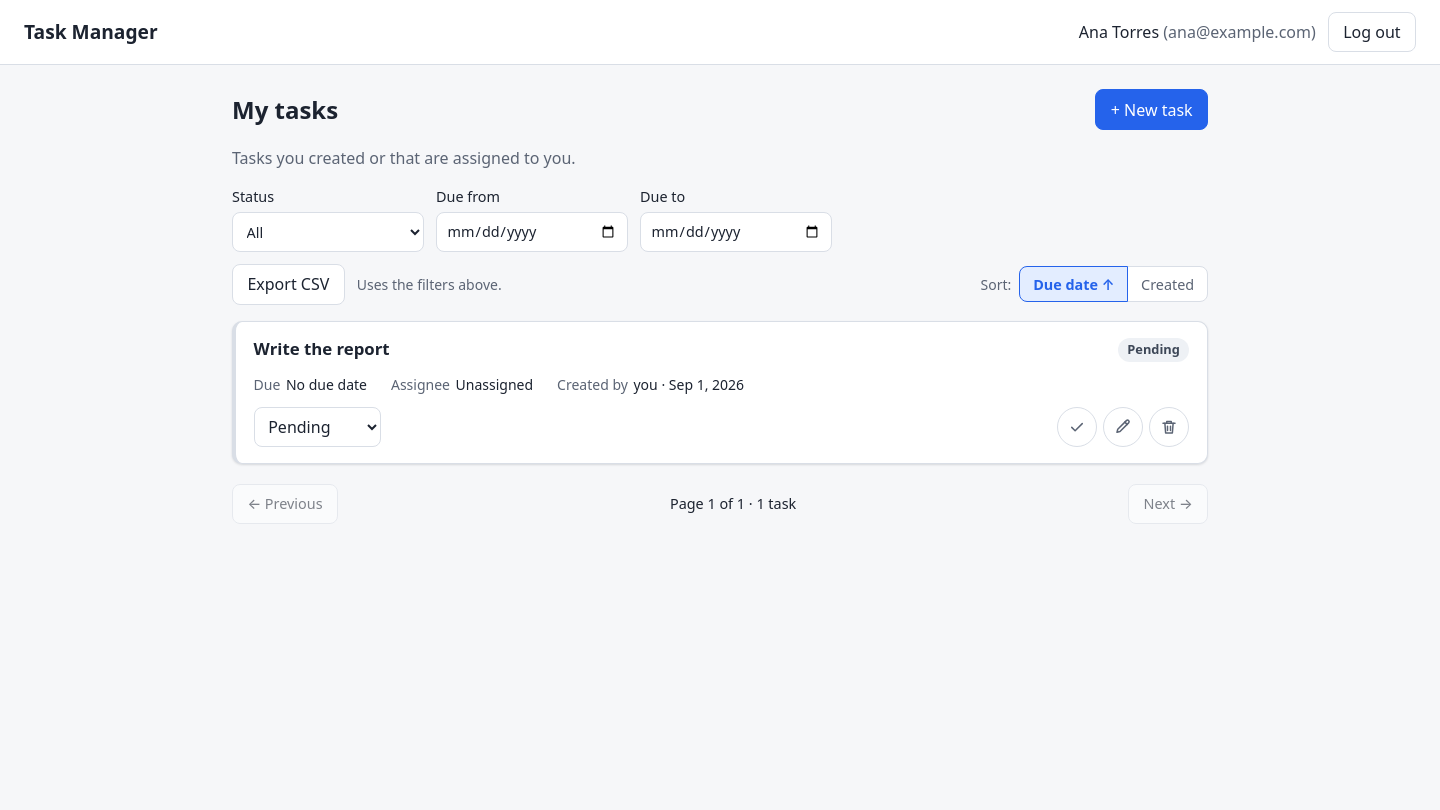
Scenario: tasks › asks for confirmation before deleting
This screenshot has width=1440, height=810.
Step 1. Click the button named "Delete" → {"x": 1169, "y": 427}, box [1149, 407, 1189, 447]
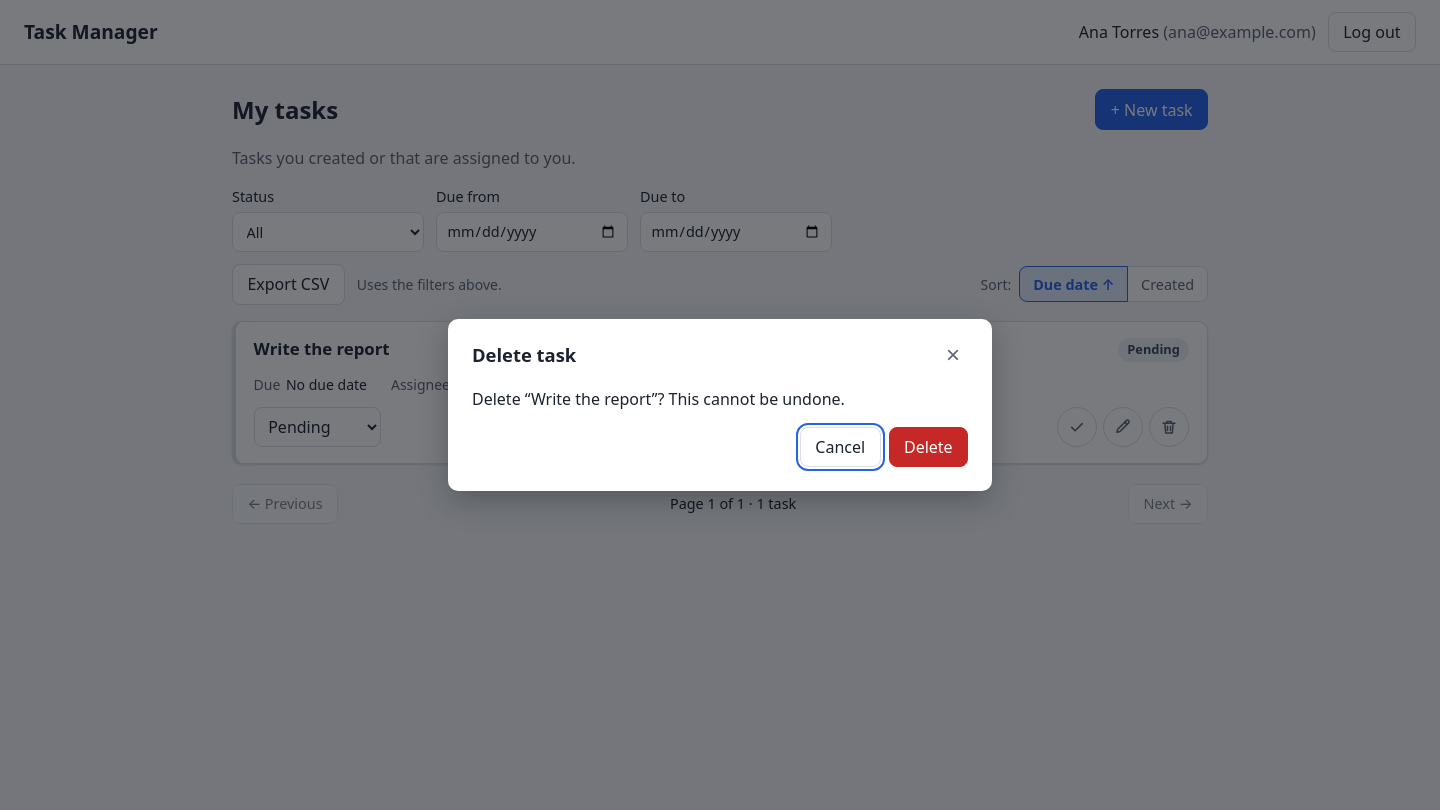
Step 2. Click the button "Cancel" → {"x": 840, "y": 447}, box [800, 427, 881, 467]
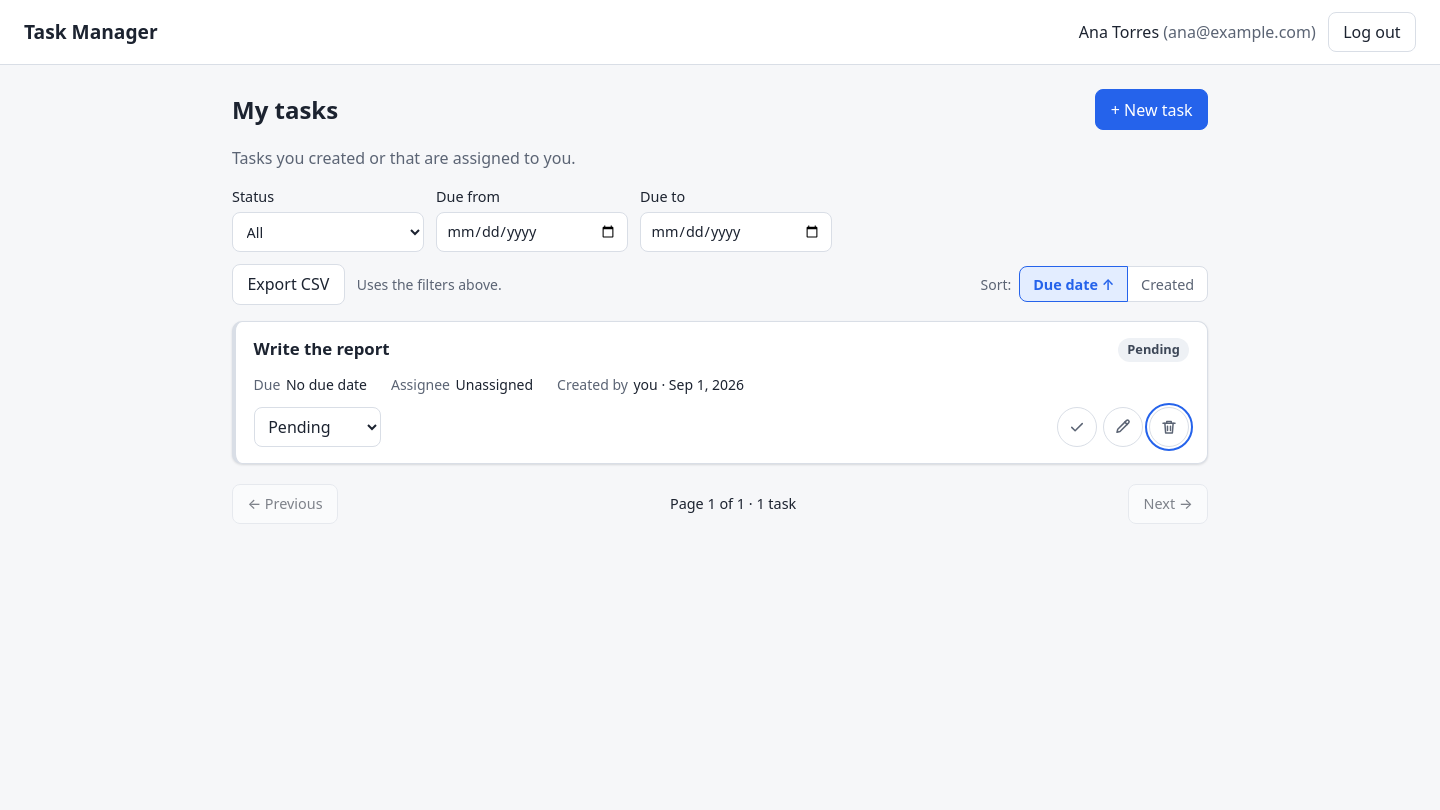
Step 3. Click the button named "Delete" → {"x": 1169, "y": 427}, box [1149, 407, 1189, 447]
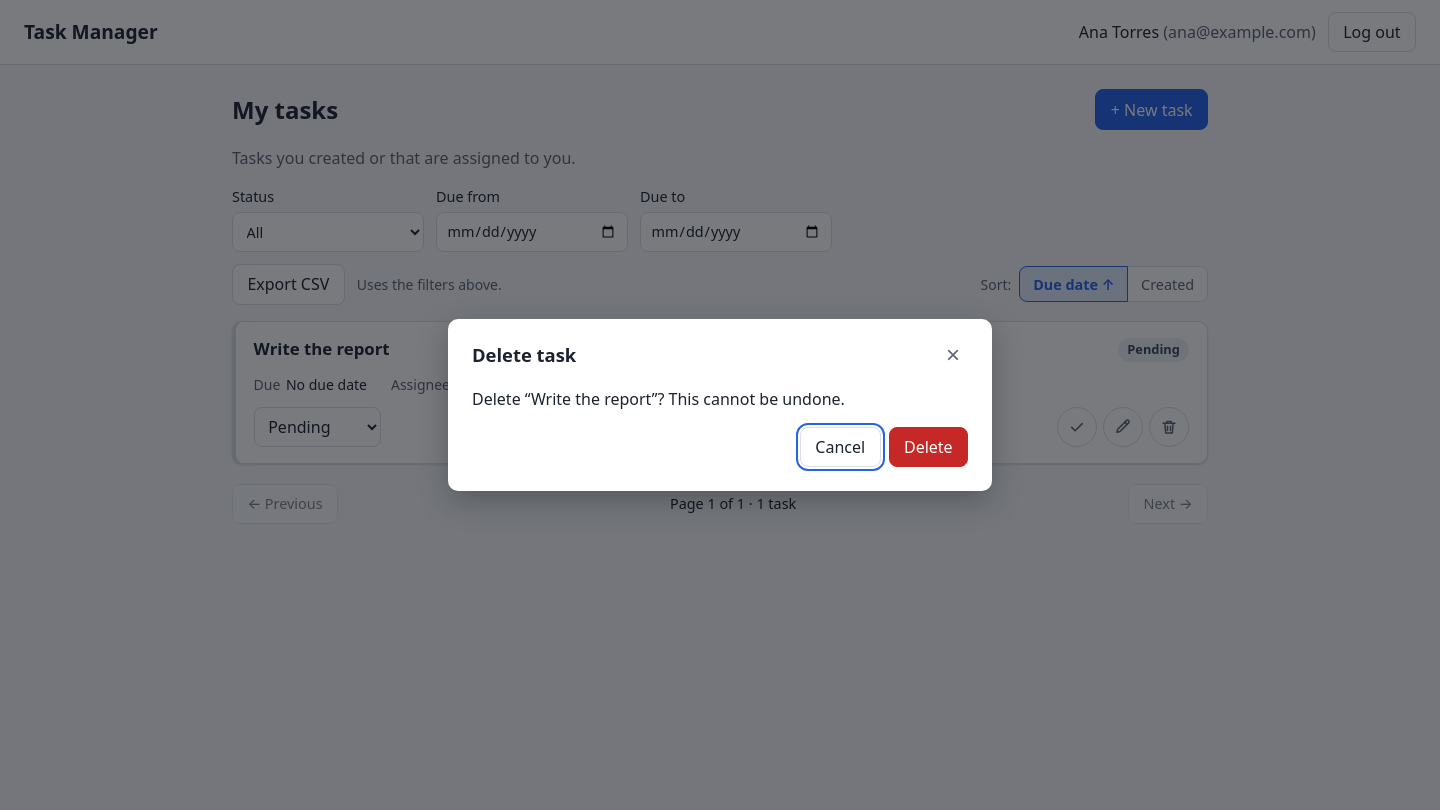
Step 4. Click the button "Delete" → {"x": 928, "y": 447}, box [889, 427, 968, 467]
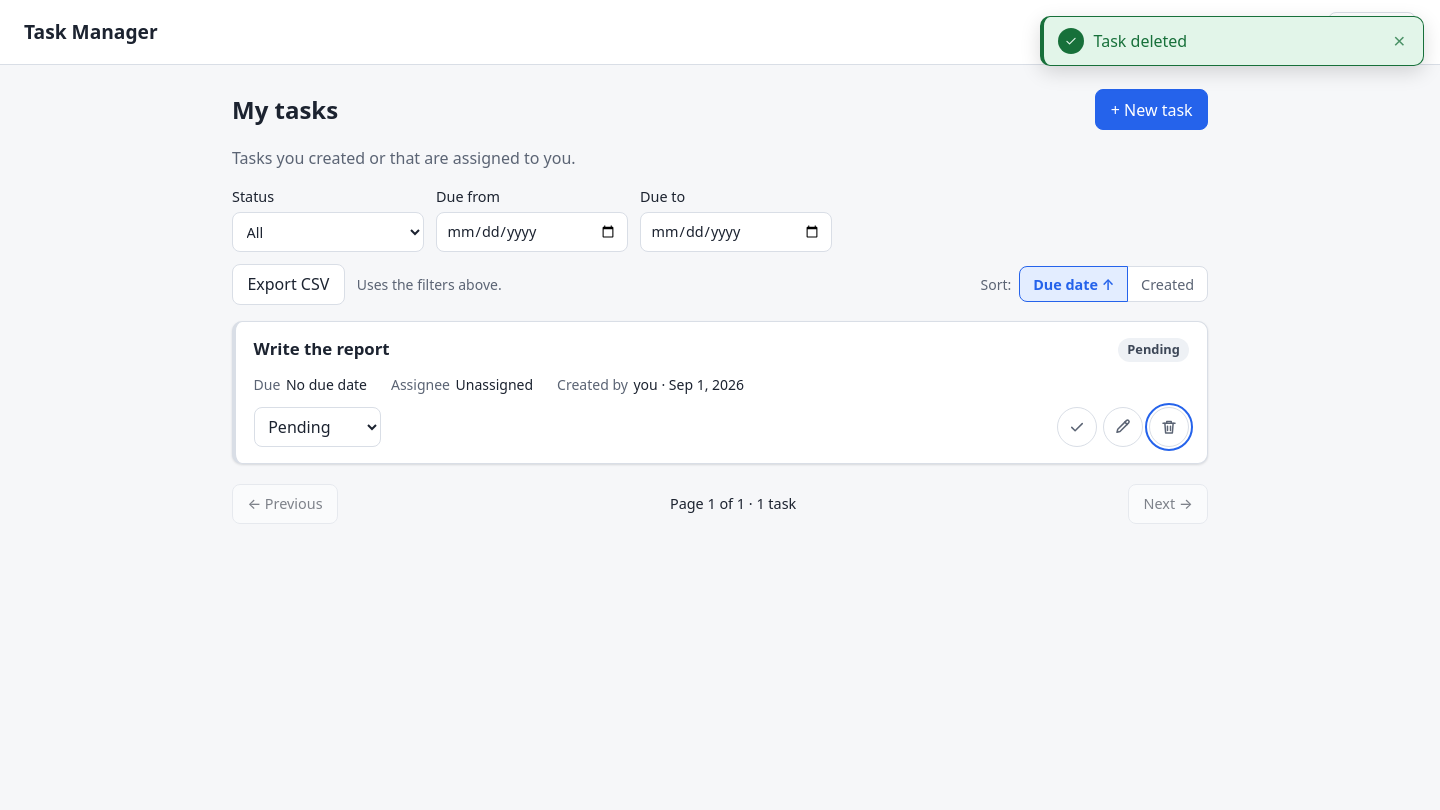
Expected: the dialog is gone
